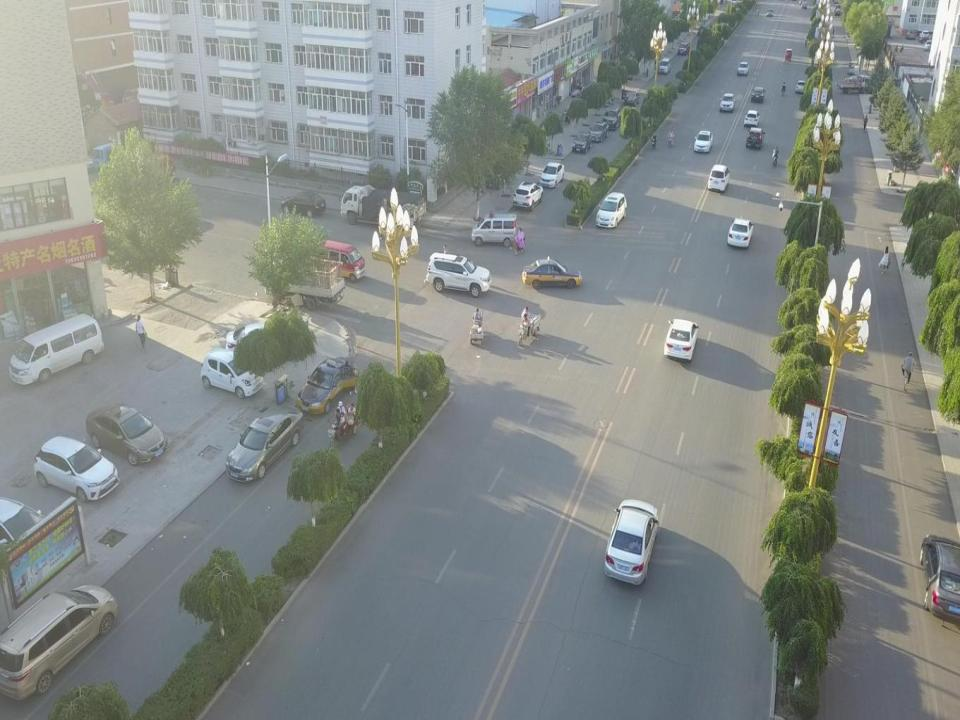car: (0, 583, 120, 700), (224, 404, 305, 484), (34, 434, 121, 502), (85, 402, 168, 467), (0, 496, 66, 574), (604, 499, 660, 585), (295, 356, 360, 419), (919, 534, 960, 628), (200, 346, 264, 399), (424, 252, 492, 298), (225, 323, 299, 362), (521, 255, 582, 290), (663, 316, 699, 365), (595, 191, 628, 230), (280, 192, 326, 218), (512, 180, 545, 211), (726, 217, 756, 250), (708, 163, 732, 194), (538, 162, 565, 189), (602, 105, 622, 131), (746, 126, 766, 151), (588, 121, 609, 143), (693, 130, 713, 153), (572, 132, 592, 154), (720, 92, 736, 113), (744, 109, 760, 128), (750, 86, 766, 103), (624, 92, 640, 108), (919, 33, 937, 43), (678, 40, 689, 56), (795, 80, 807, 94), (737, 61, 749, 75), (919, 30, 930, 41), (923, 39, 933, 51), (696, 25, 706, 36), (905, 29, 915, 40)
truck: (262, 254, 346, 311), (339, 184, 426, 229), (836, 74, 873, 94)
van: (9, 312, 105, 388), (308, 237, 365, 283), (470, 210, 517, 247), (659, 56, 671, 75)
